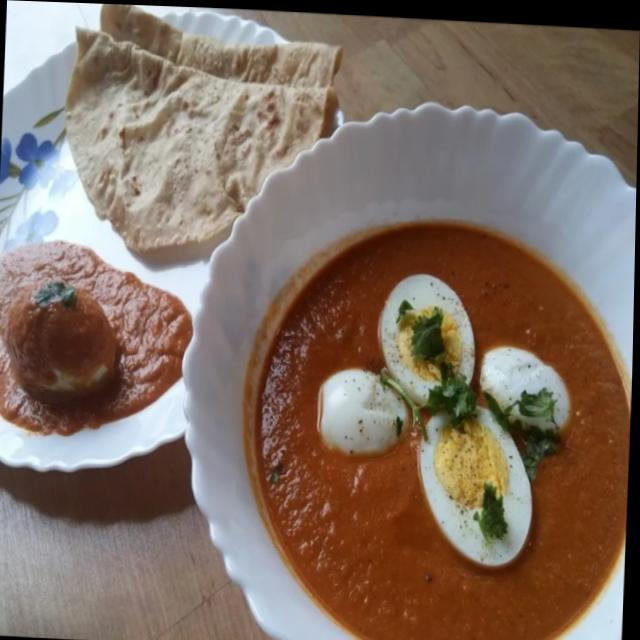CHAPATHI: (63, 4, 344, 245)
EGG: (261, 222, 627, 640), (0, 241, 192, 432)
